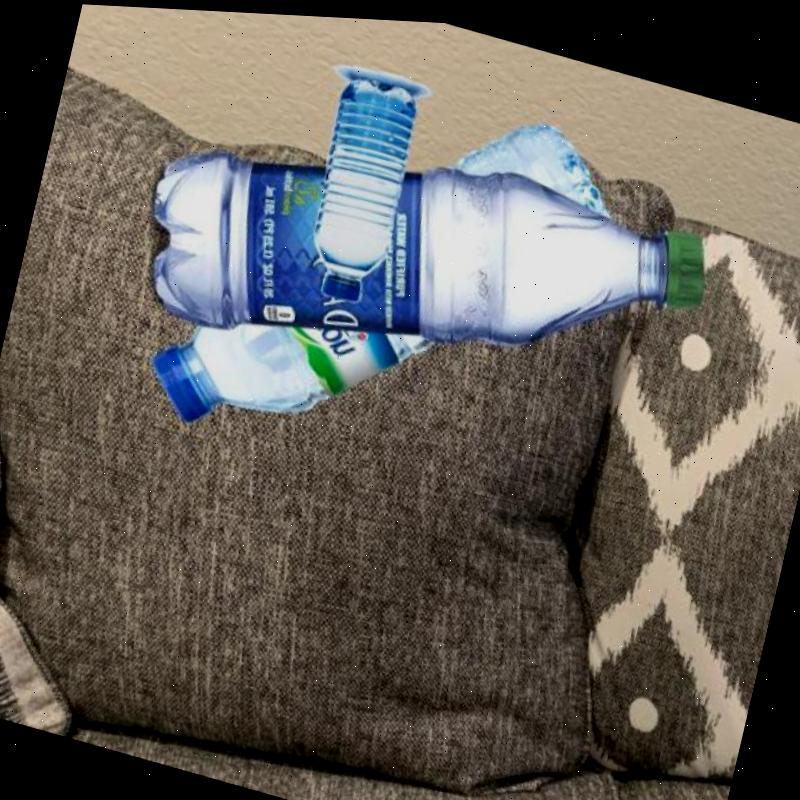botella: (141, 27, 635, 524), (125, 73, 715, 451), (298, 55, 434, 304)
